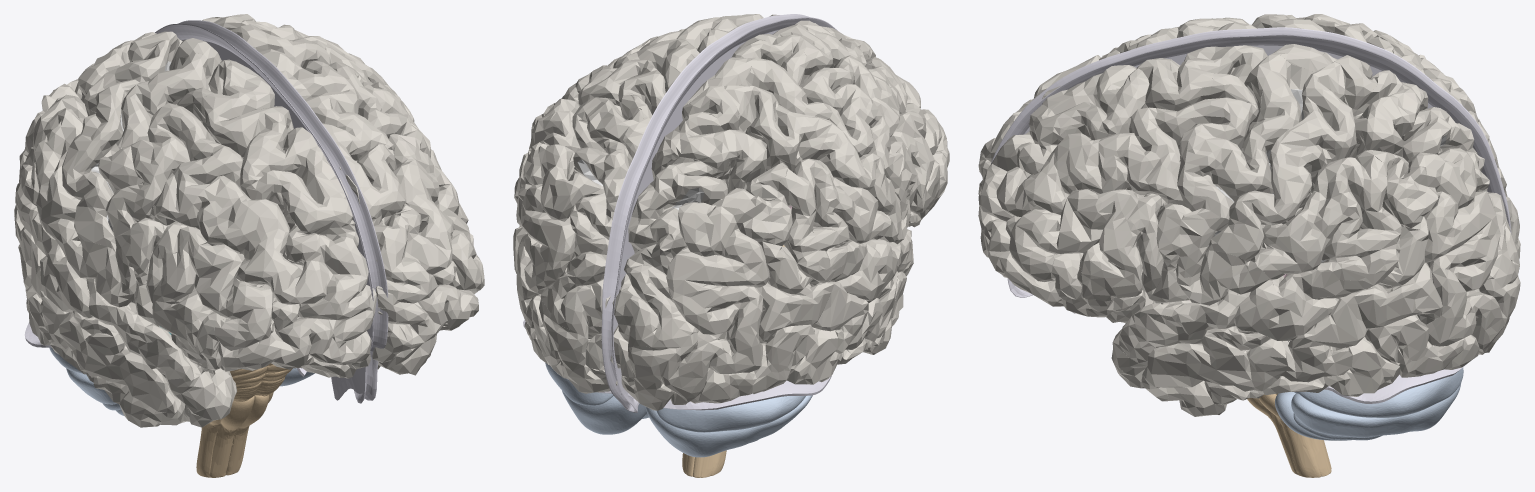
File: source-orientation.glb
3 renders of one model, left to right at view 1: azimuth 30°, elevation 25°; view 2: azimuth 150°, elevation 25°; view 3: azimuth 270°, elevation 25°, orthographic. The views are drawn at different scales.
Parts seen in each view (by area): view 1: Middle frontal gyrus.r, Superior frontal gyrus.r, Precentral gyrus.r, Superior frontal gyrus.l, Falx cerebri, Middle frontal gyrus.l, Postcentral gyrus.r, Middle temporal gyrus.r, Superior temporal gyrus (Lateral part).r, Supramarginal gyrus.r, Orbital gyri (Frontomarginal gyrus and sulcus*).r, Triangular part of inferior frontal gyrus.r (+27 smaller); view 2: Angular gyrus.r, Falx cerebri, Superior parietal lobule.r, Postcentral gyrus.r, Supramarginal gyrus.r, Angular gyrus.l, Lateral occipital gyrus (Middle occipital gyrus*).r, Precentral gyrus.r, Middle temporal gyrus.r, Superior parietal lobule.l, Middle frontal gyrus.r, Inferior temporal gyrus.r (+34 smaller); view 3: Middle frontal gyrus.l, Precentral gyrus.l, Middle temporal gyrus.l, Superior frontal gyrus.l, Postcentral gyrus.l, Falx cerebri, Supramarginal gyrus.l, Superior temporal gyrus (Lateral part).l, Angular gyrus.l, Inferior temporal gyrus.l, Superior parietal lobule.l, Lateral occipital gyrus (Middle occipital gyrus*).l (+26 smaller).
Part boxes in pixels (x1,y1,x2,y2): Middle frontal gyrus.r: [147, 103, 336, 350]; Superior frontal gyrus.r: [200, 59, 376, 320]; Precentral gyrus.r: [98, 53, 208, 285]; Superior frontal gyrus.l: [259, 49, 431, 317]; Falx cerebri: [155, 20, 388, 403]; Middle frontal gyrus.l: [328, 62, 484, 291]; Postcentral gyrus.r: [62, 40, 170, 251]; Middle temporal gyrus.r: [14, 205, 177, 418]; Superior temporal gyrus (Lateral part).r: [25, 219, 199, 395]; Supramarginal gyrus.r: [15, 97, 87, 249]; Orbital gyri (Frontomarginal gyrus and sulcus*).r: [238, 308, 361, 369]; Triangular part of inferior frontal gyrus.r: [152, 239, 203, 347]; Angular gyrus.r: [666, 164, 812, 294]; Falx cerebri: [601, 14, 837, 412]; Superior parietal lobule.r: [636, 113, 766, 246]; Postcentral gyrus.r: [724, 85, 895, 214]; Supramarginal gyrus.r: [762, 158, 891, 282]; Angular gyrus.l: [516, 111, 604, 254]; Lateral occipital gyrus (Middle occipital gyrus*).r: [666, 278, 763, 391]; Precentral gyrus.r: [741, 57, 916, 211]; Middle temporal gyrus.r: [756, 271, 906, 353]; Superior parietal lobule.l: [571, 94, 644, 233]; Middle frontal gyrus.r: [800, 55, 949, 167]; Inferior temporal gyrus.r: [760, 316, 895, 384]; Middle frontal gyrus.l: [986, 97, 1258, 281]; Precentral gyrus.l: [1156, 52, 1314, 277]; Middle temporal gyrus.l: [1141, 262, 1442, 391]; Superior frontal gyrus.l: [978, 45, 1267, 205]; Postcentral gyrus.l: [1205, 61, 1356, 262]; Falx cerebri: [991, 27, 1511, 313]; Supramarginal gyrus.l: [1254, 150, 1401, 289]; Superior temporal gyrus (Lateral part).l: [1119, 269, 1364, 362]; Angular gyrus.l: [1371, 148, 1496, 288]; Inferior temporal gyrus.l: [1166, 314, 1434, 416]; Superior parietal lobule.l: [1354, 73, 1484, 173]; Lateral occipital gyrus (Middle occipital gyrus*).l: [1425, 215, 1500, 346].
Size of the model in its own units: 138 by 162 by 181.
